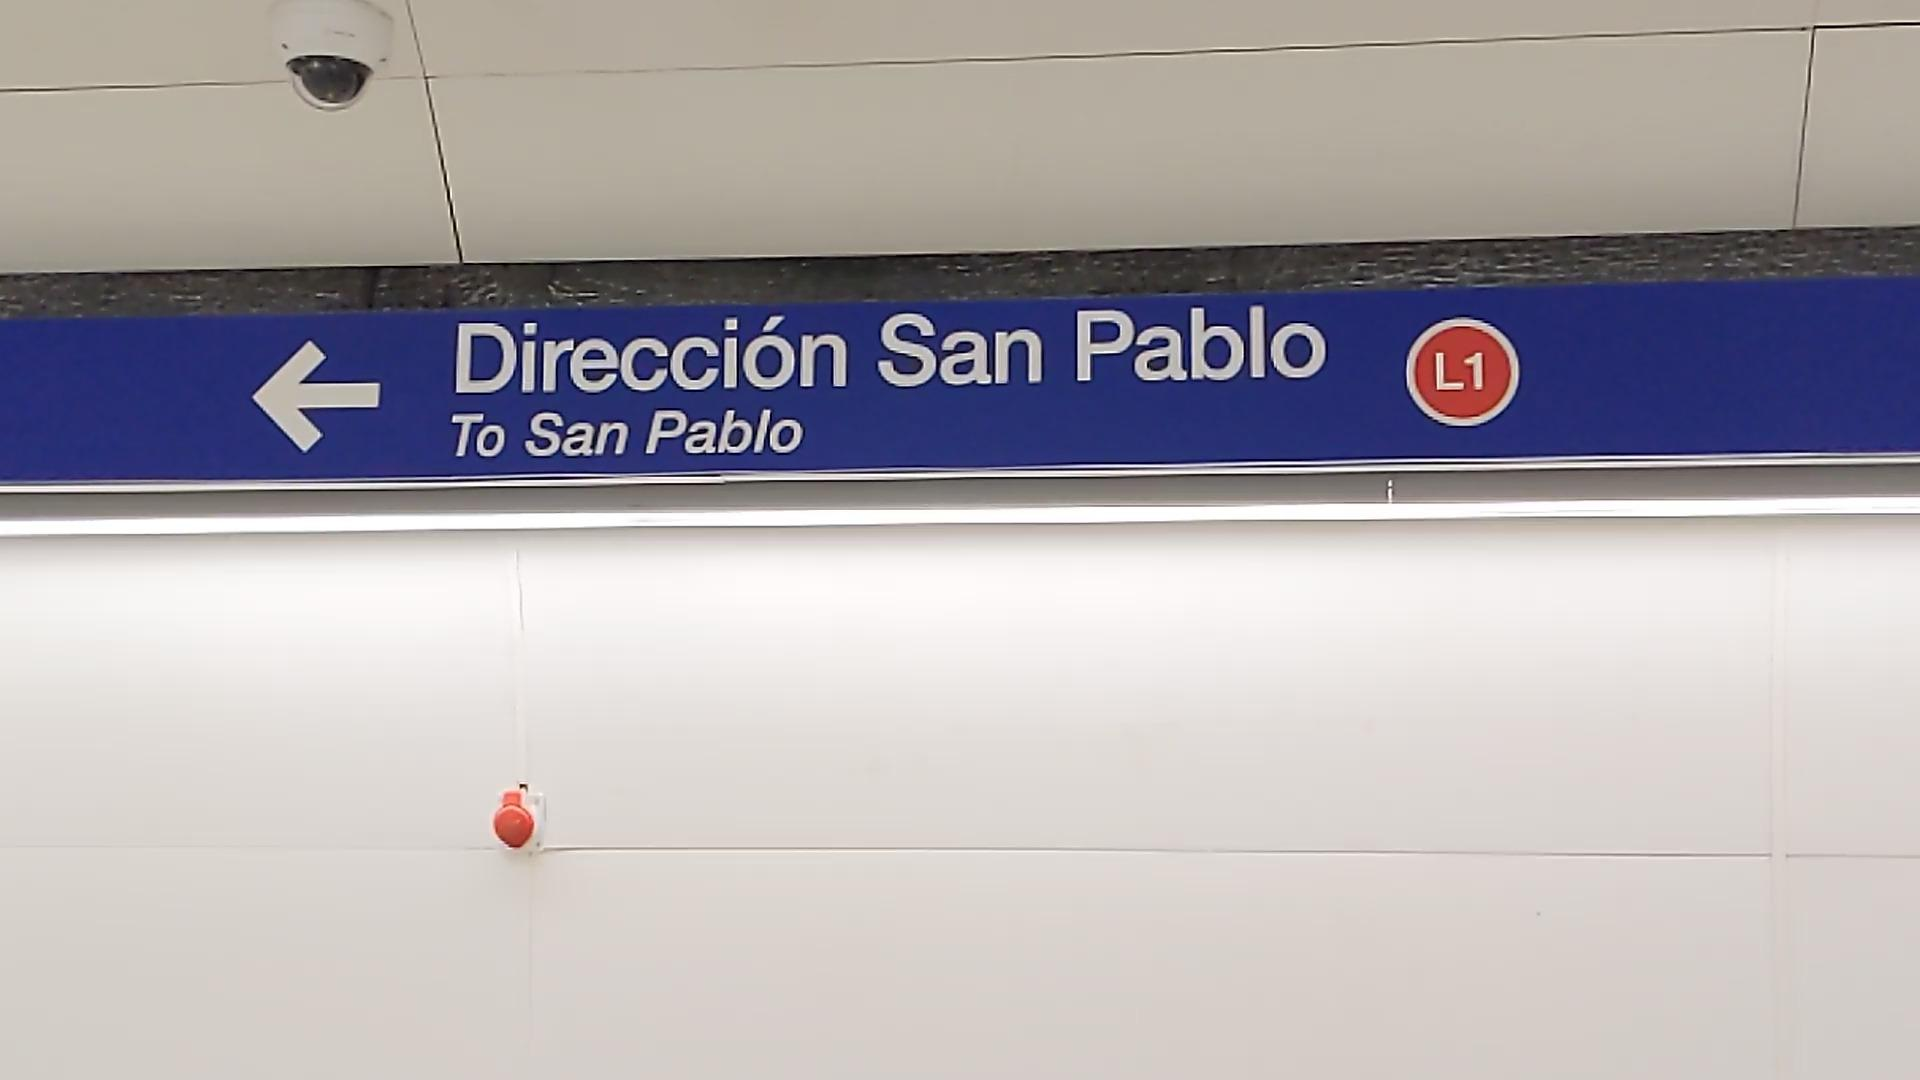left arrow: (251, 336, 394, 456)
